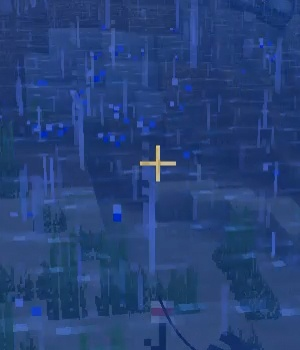down: (141, 292, 181, 350)
